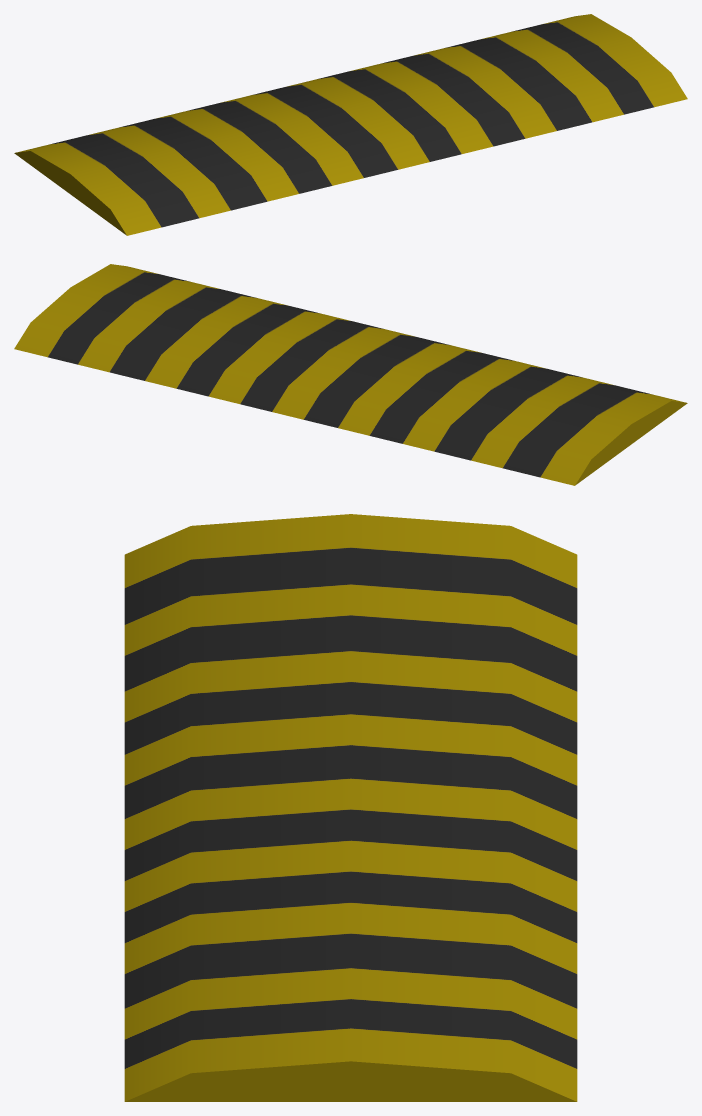
File: Parking_Bump_L.fbx
The picture shows the model from 3 angles, top to bottom: view 1: azimuth 30°, elevation 25°; view 2: azimuth 150°, elevation 25°; view 3: azimuth 270°, elevation 25°; orthographic projection. The views are drawn at different scales.
Parts seen in each view (by area): view 1: Parking_bump_L; view 2: Parking_bump_L; view 3: Parking_bump_L.
Boxes of the visible parts, x1=… form: Parking_bump_L: x1=14, y1=14, x2=687, y2=235; Parking_bump_L: x1=14, y1=264, x2=687, y2=485; Parking_bump_L: x1=124, y1=514, x2=577, y2=1101.
Bounding box in the file's own units: 451 × 15.62 × 158.
Materials: 1 (1 with a texture image).
